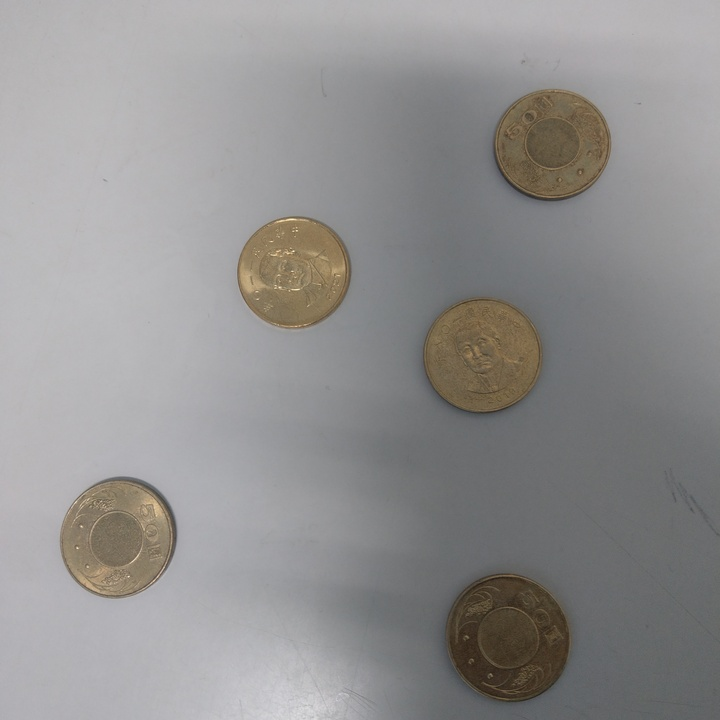50 dollar: (445, 572, 572, 701), (56, 475, 181, 601), (422, 297, 543, 416), (488, 88, 615, 201), (238, 214, 353, 336)
